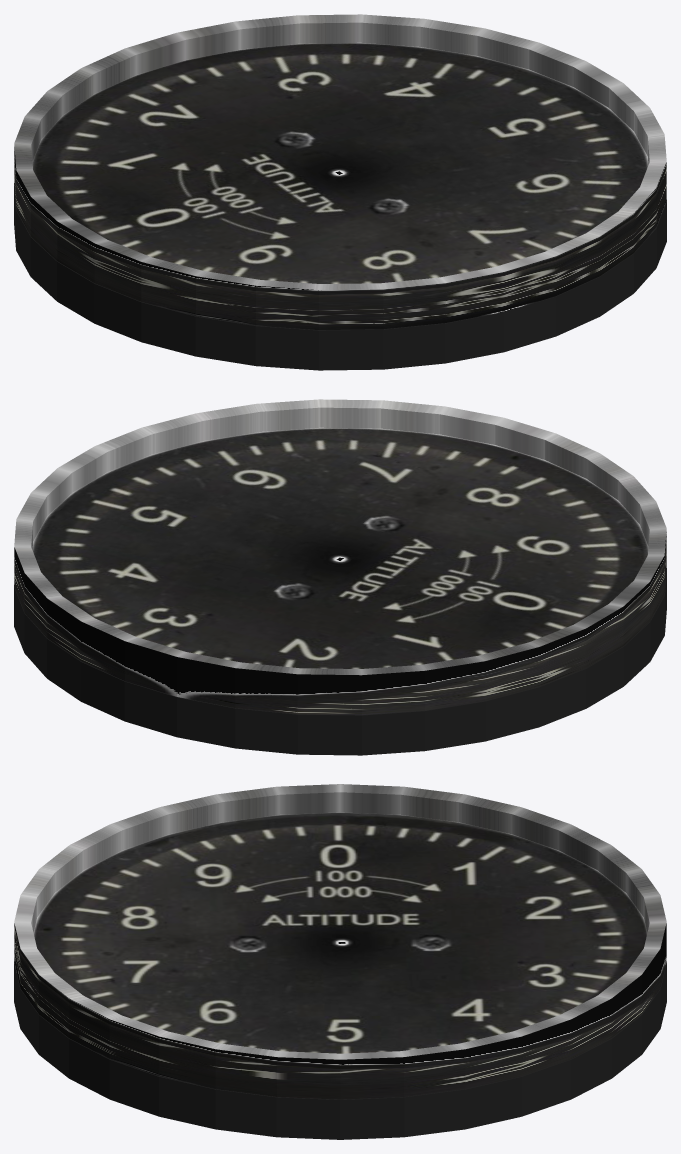
File: gauge_1.glb
The picture shows the model from 3 angles, top to bottom: view 1: azimuth 30°, elevation 25°; view 2: azimuth 150°, elevation 25°; view 3: azimuth 270°, elevation 25°; orthographic projection.
Visible parts, largest first — view 1: Cylinder, Cylinder.001; view 2: Cylinder, Cylinder.001; view 3: Cylinder, Cylinder.001.
Boxes of the visible parts, x1,y1,x2,y2 form: Cylinder: (14, 14, 666, 329); Cylinder.001: (14, 183, 666, 370); Cylinder: (14, 399, 666, 714); Cylinder.001: (14, 568, 666, 755); Cylinder: (14, 784, 666, 1099); Cylinder.001: (14, 961, 666, 1139).
Bounding box in the file's own units: 2.11 × 0.2857 × 2.11.
2 materials, 1 textured.
